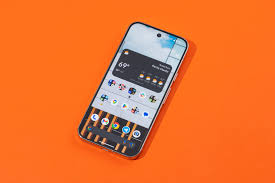phone: (67, 15, 197, 161)
